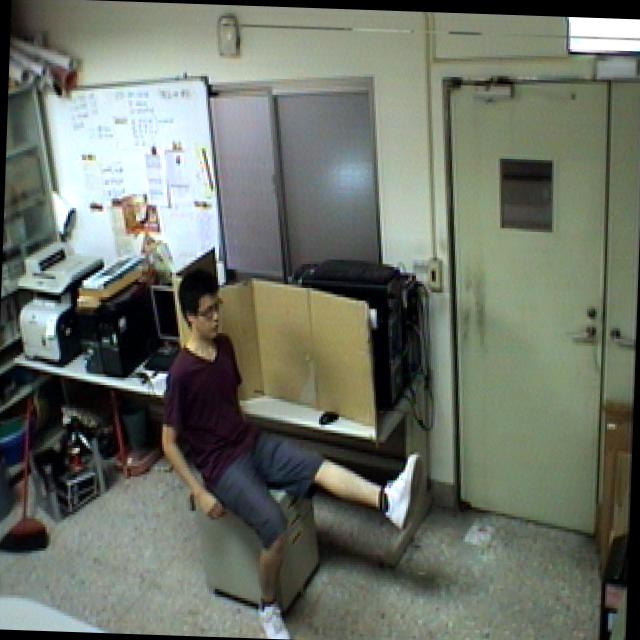sit: (141, 259, 434, 640)
